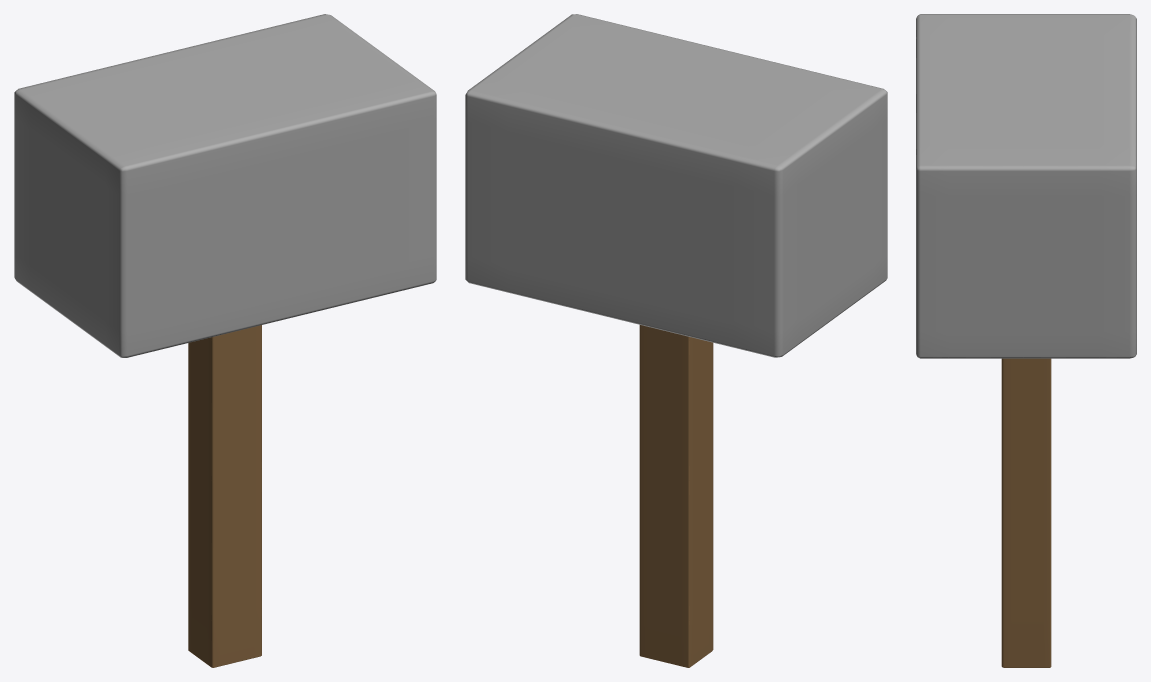
File: hammerModel.fbx
The picture shows the model from 3 angles, left to right: view 1: azimuth 30°, elevation 25°; view 2: azimuth 150°, elevation 25°; view 3: azimuth 270°, elevation 25°; orthographic projection.
Parts seen in each view (by area): view 1: pCube3; view 2: pCube3; view 3: pCube3.
Boxes of the visible parts, x1=… form: pCube3: x1=14, y1=14, x2=436, y2=667; pCube3: x1=465, y1=14, x2=887, y2=667; pCube3: x1=916, y1=14, x2=1136, y2=667.
Size of the model in its own units: 4.11 by 6.98 by 2.47.
